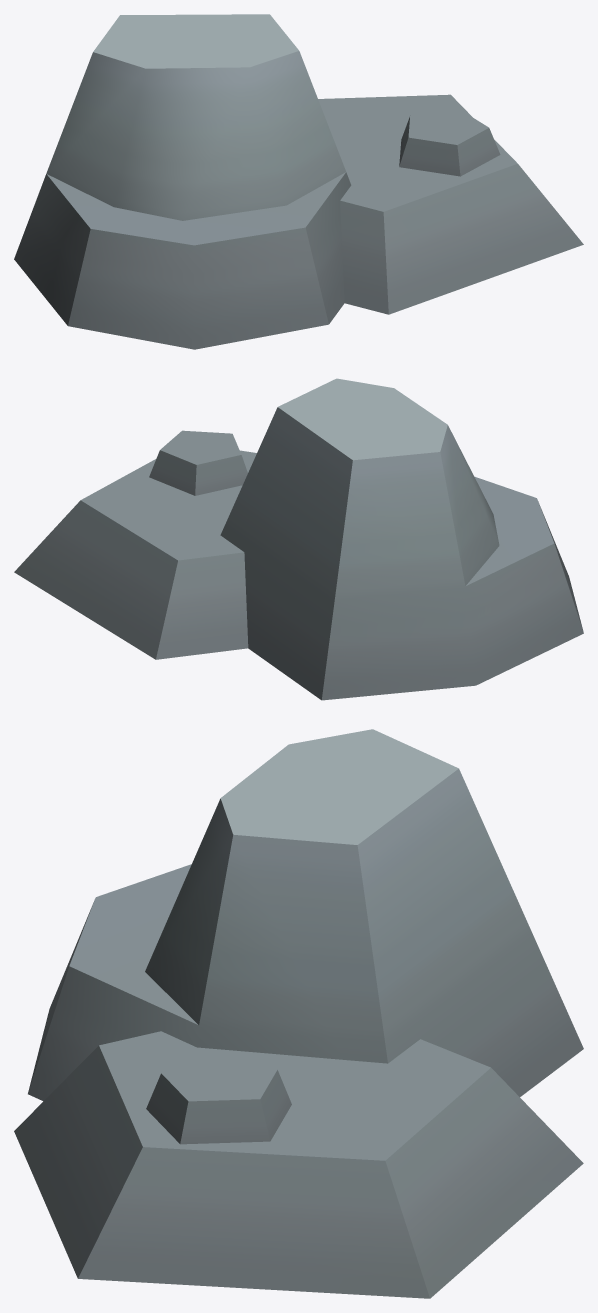
File: kay-pedra-e.gltf
3 renders of one model, top to bottom at view 1: azimuth 30°, elevation 25°; view 2: azimuth 150°, elevation 25°; view 3: azimuth 270°, elevation 25°, orthographic. The views are drawn at different scales.
Parts seen in each view (by area): view 1: rock_single_E; view 2: rock_single_E; view 3: rock_single_E.
Part boxes in pixels (<box>): rock_single_E: <box>14,14,583,349</box>; rock_single_E: <box>14,378,583,700</box>; rock_single_E: <box>14,729,583,1298</box>.
Size of the model in its own units: 2.44 by 0.9738 by 1.74.
Materials: 1 (1 with a texture image).
